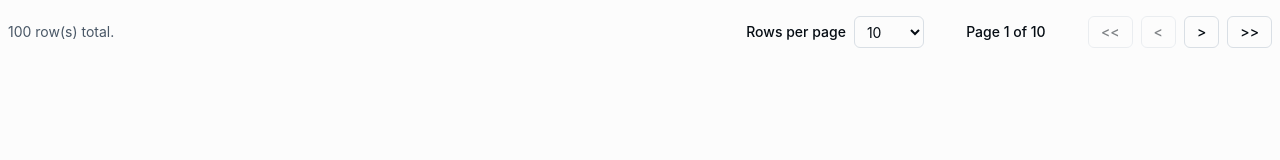
Scenario: TablePagination › page size selection › changes page size when option is selected
Check: the text "Page 1 of 10" is shown, box [966,23,1046,40]
Select "20" in the dropdown at [889, 32], box [854,16,924,48]
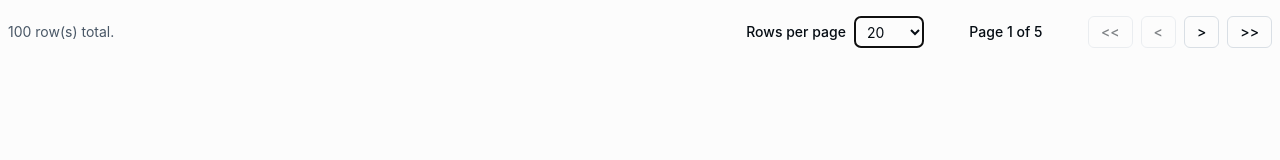
Check: the text "Page 1 of 5" is shown, box [969,23,1042,40]
